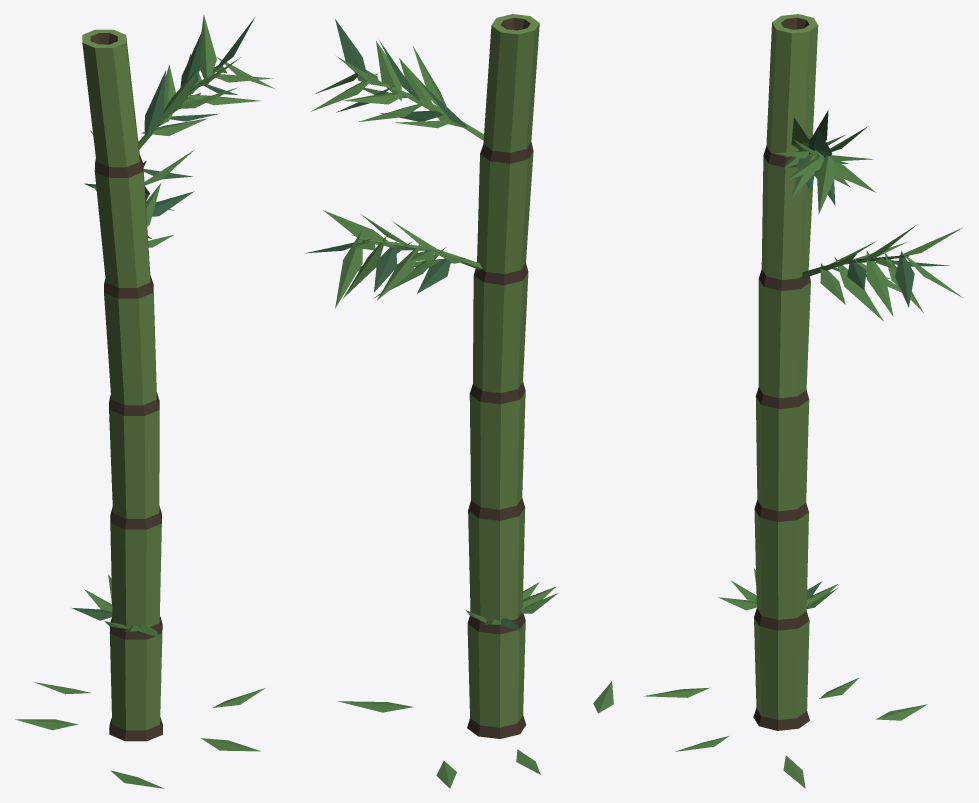
The model's file is bamboo-stalk-e4d362.glb.
3 views of the same model, side by side, from view 1: azimuth 30°, elevation 25°; view 2: azimuth 150°, elevation 25°; view 3: azimuth 270°, elevation 25° (orthographic). The views are drawn at different scales.
Parts seen in each view (by area): view 1: crown, culm-base; view 2: crown, culm-base; view 3: crown, culm-base.
Part boxes in pixels (x1=…): crown: x1=82, y1=14, x2=274, y2=518; culm-base: x1=15, y1=505, x2=265, y2=788; crown: x1=305, y1=14, x2=539, y2=509; culm-base: x1=338, y1=498, x2=613, y2=788; crown: x1=755, y1=14, x2=962, y2=511; culm-base: x1=643, y1=500, x2=927, y2=788.
Size of the model in its own units: 1.09 by 3.01 by 1.28.
